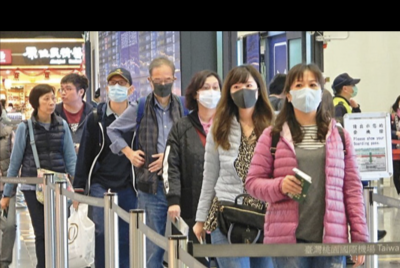with_mask: (291, 78, 323, 114), (230, 80, 259, 110), (197, 80, 221, 110), (107, 78, 129, 103), (151, 77, 175, 99), (347, 82, 359, 97)
without_mask: (39, 94, 57, 115), (59, 85, 75, 105)
